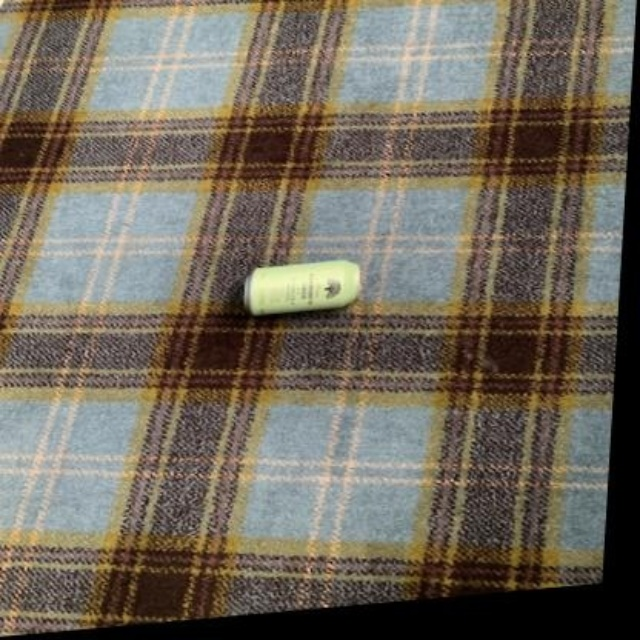trash: (245, 260, 360, 314)
